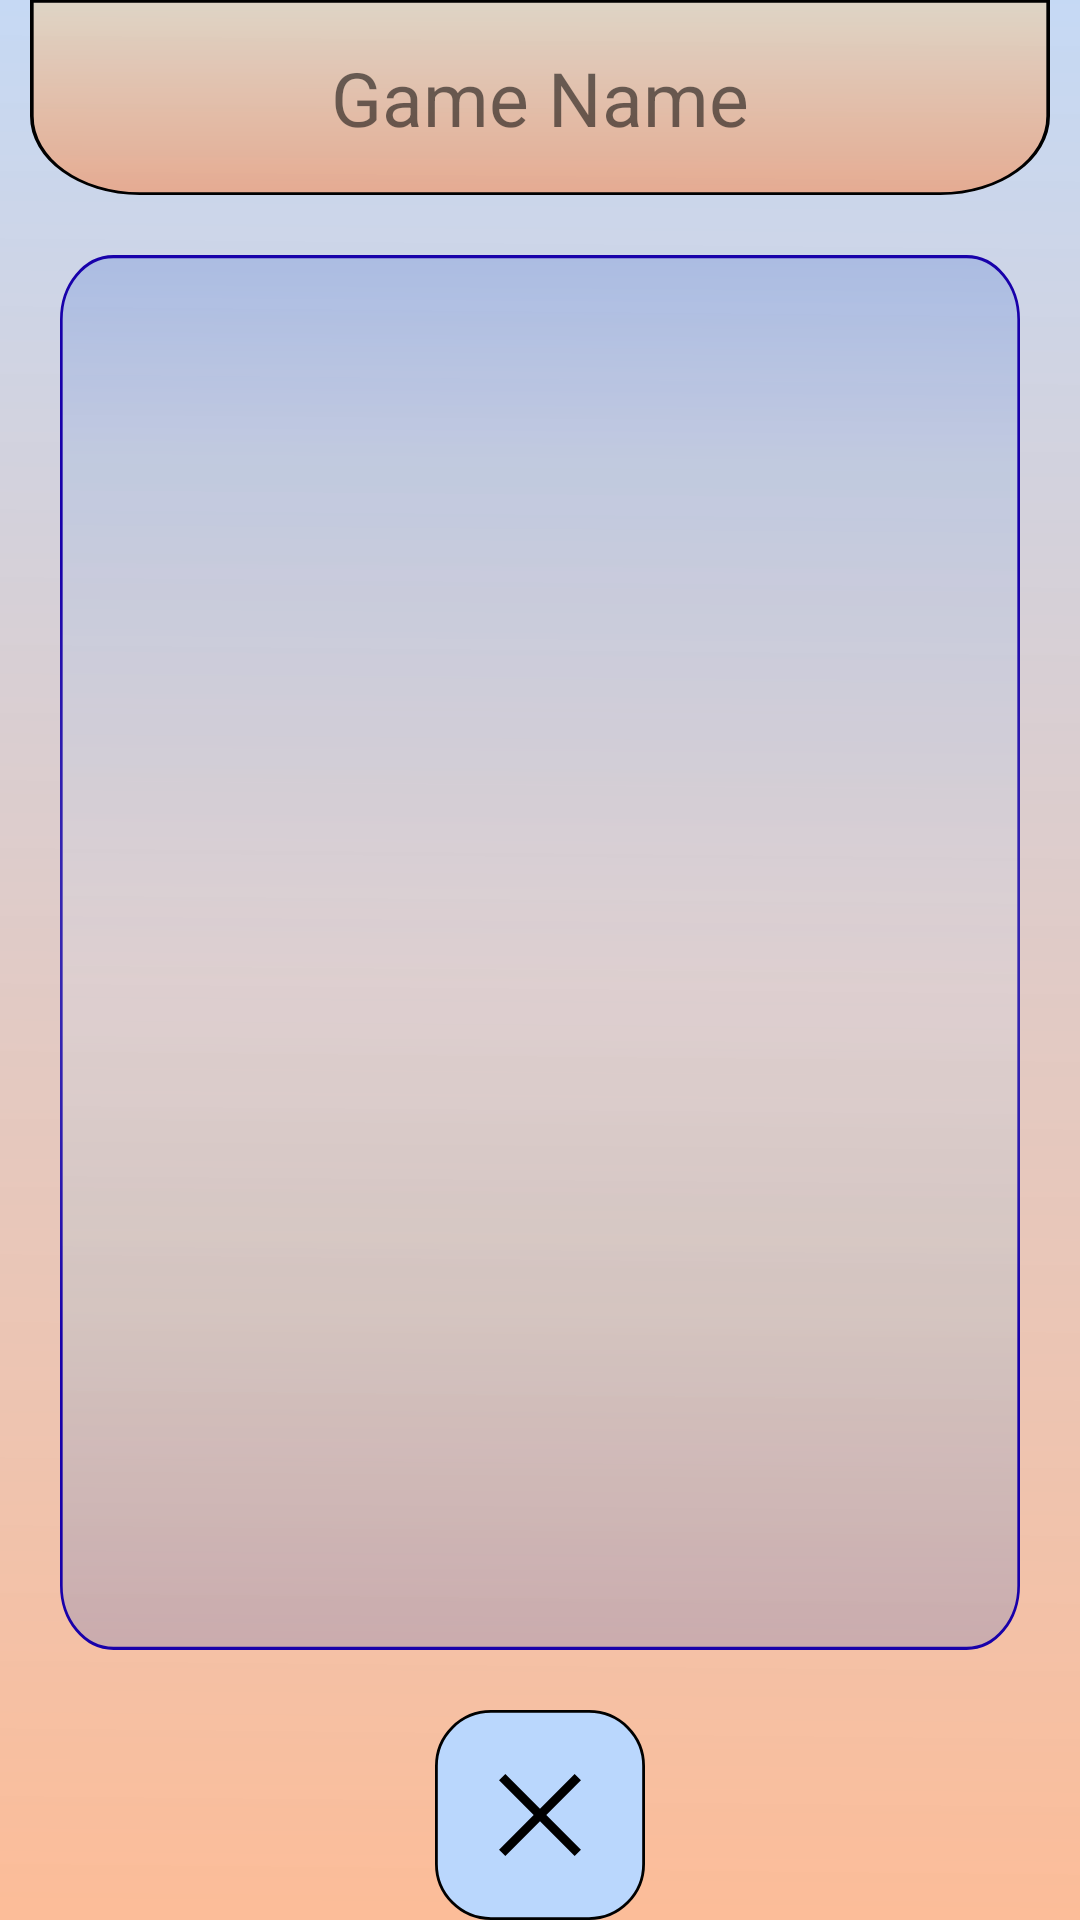

Point at icon controls on the screen. Image size 1080px x 1920px, points as (x,y).
close: (540,1815)
